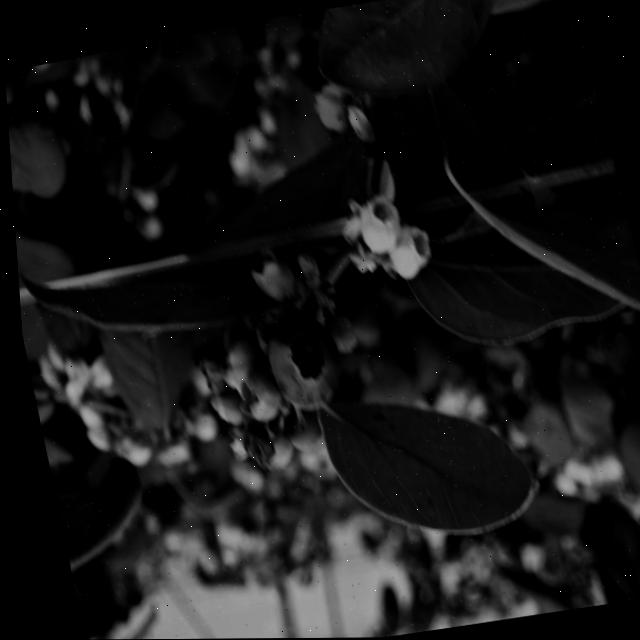RipeBlueBerry: (256, 311, 352, 415)
